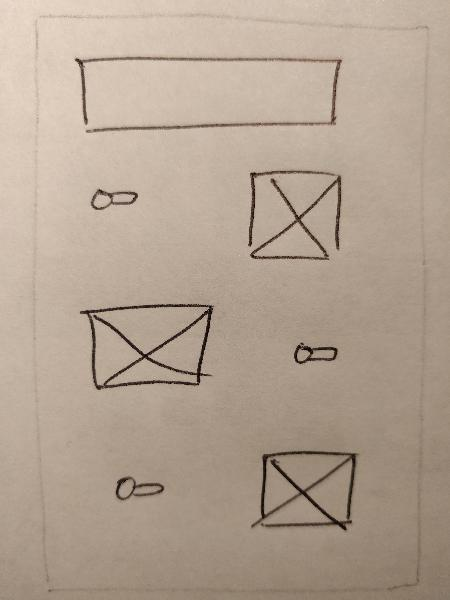image: (70, 297, 223, 399), (236, 159, 352, 268), (250, 444, 363, 537)
switch: (83, 175, 146, 219), (105, 468, 174, 507), (283, 335, 348, 372)
text_input: (69, 46, 350, 142)
